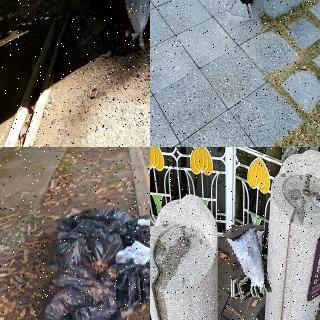Garbage: (31, 264, 119, 320), (53, 225, 125, 272), (227, 224, 268, 299), (117, 0, 150, 50), (130, 214, 150, 263), (222, 0, 261, 21)
